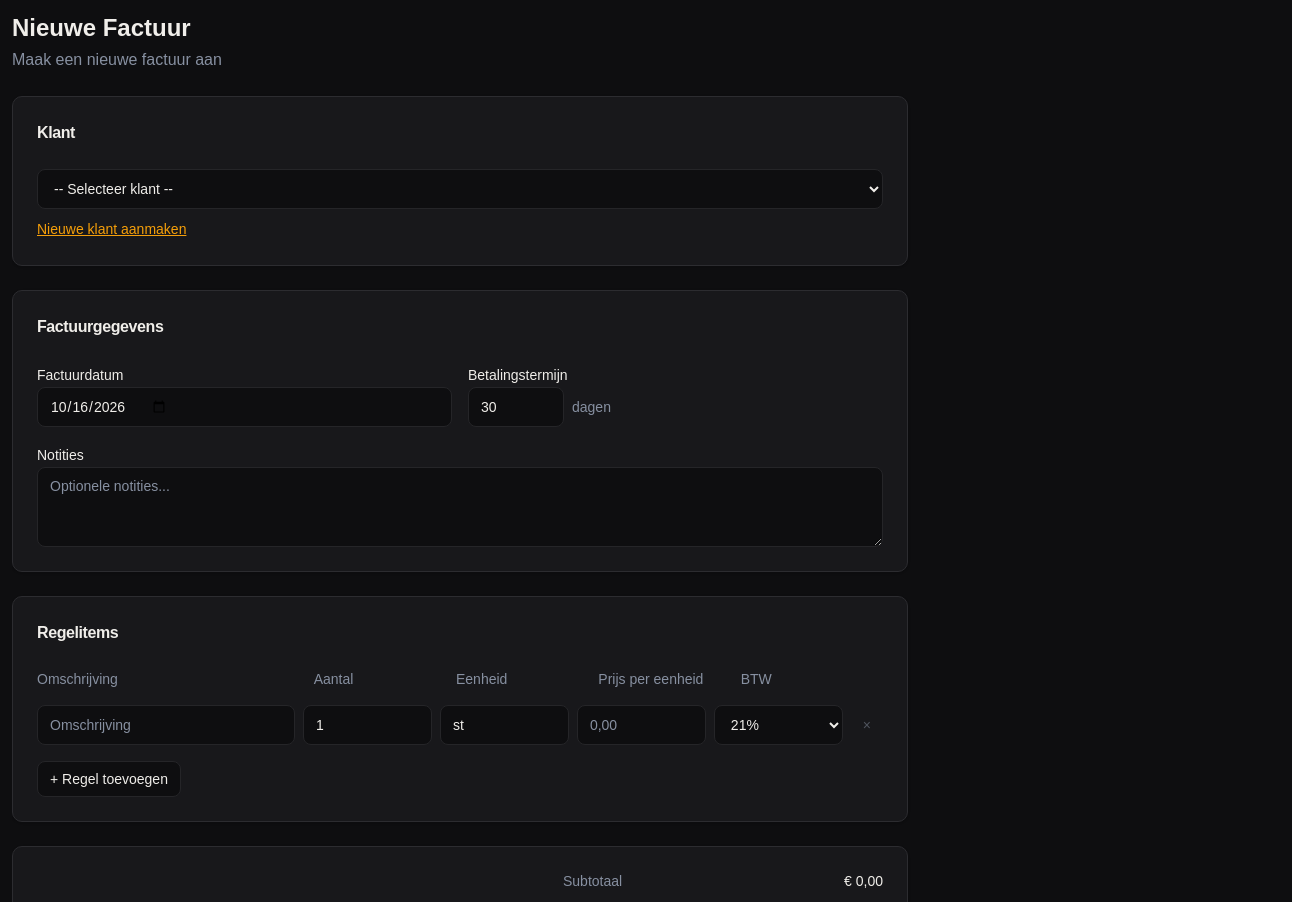
Test case: InvoiceCreatePage › removes a line item when the remove button is clicked (when >1 line)
// Add a second line first
Click the button "+ Regel toevoegen". click: (109, 779)
box: [37, 761, 181, 797]
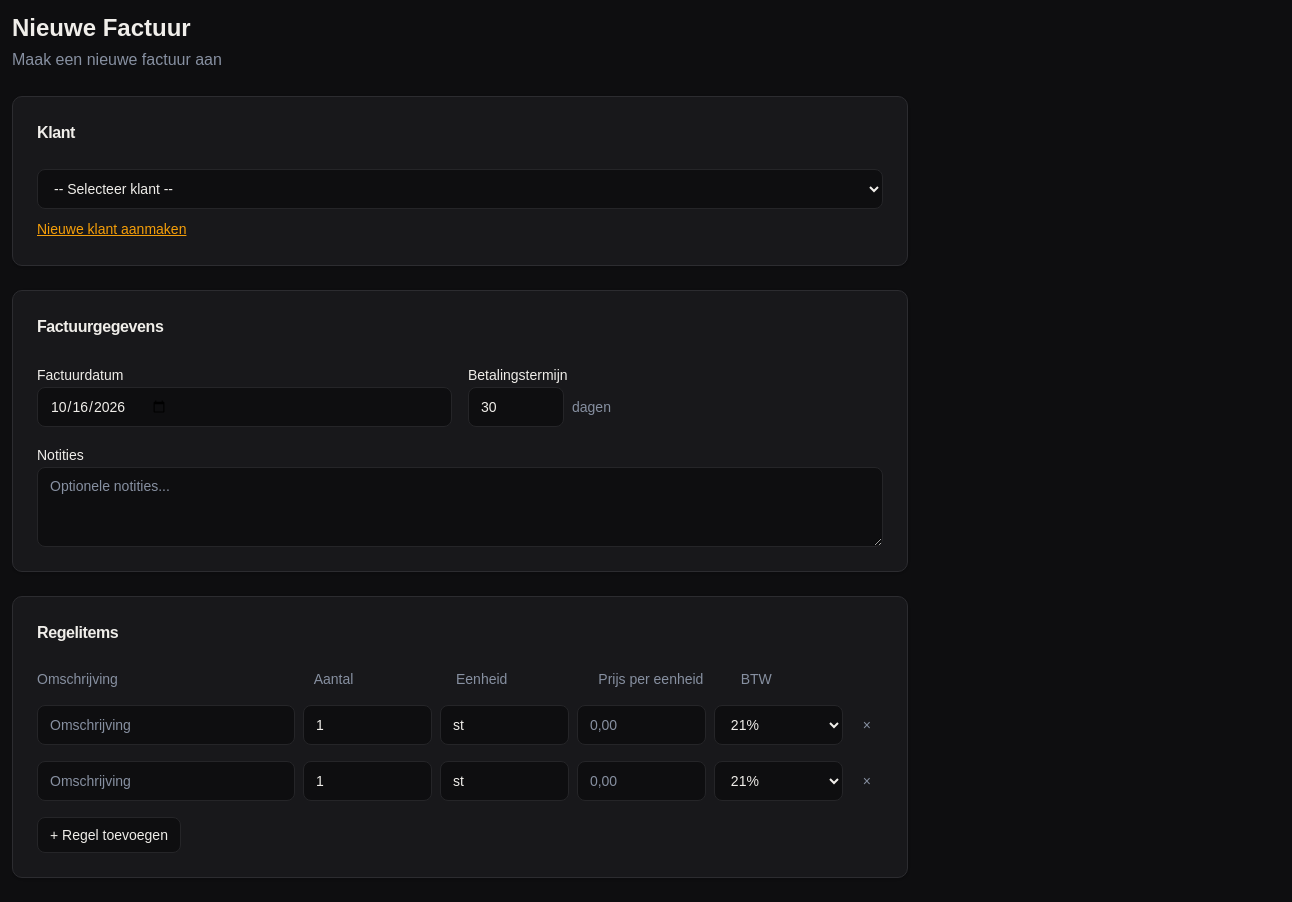
Expected: the number of fields with placeholder "Omschrijving" is 2, [37, 705, 295, 745]; [37, 761, 295, 801]
// Remove one
Click the button named "verwijder". click: (867, 725)
box: [851, 707, 883, 743]
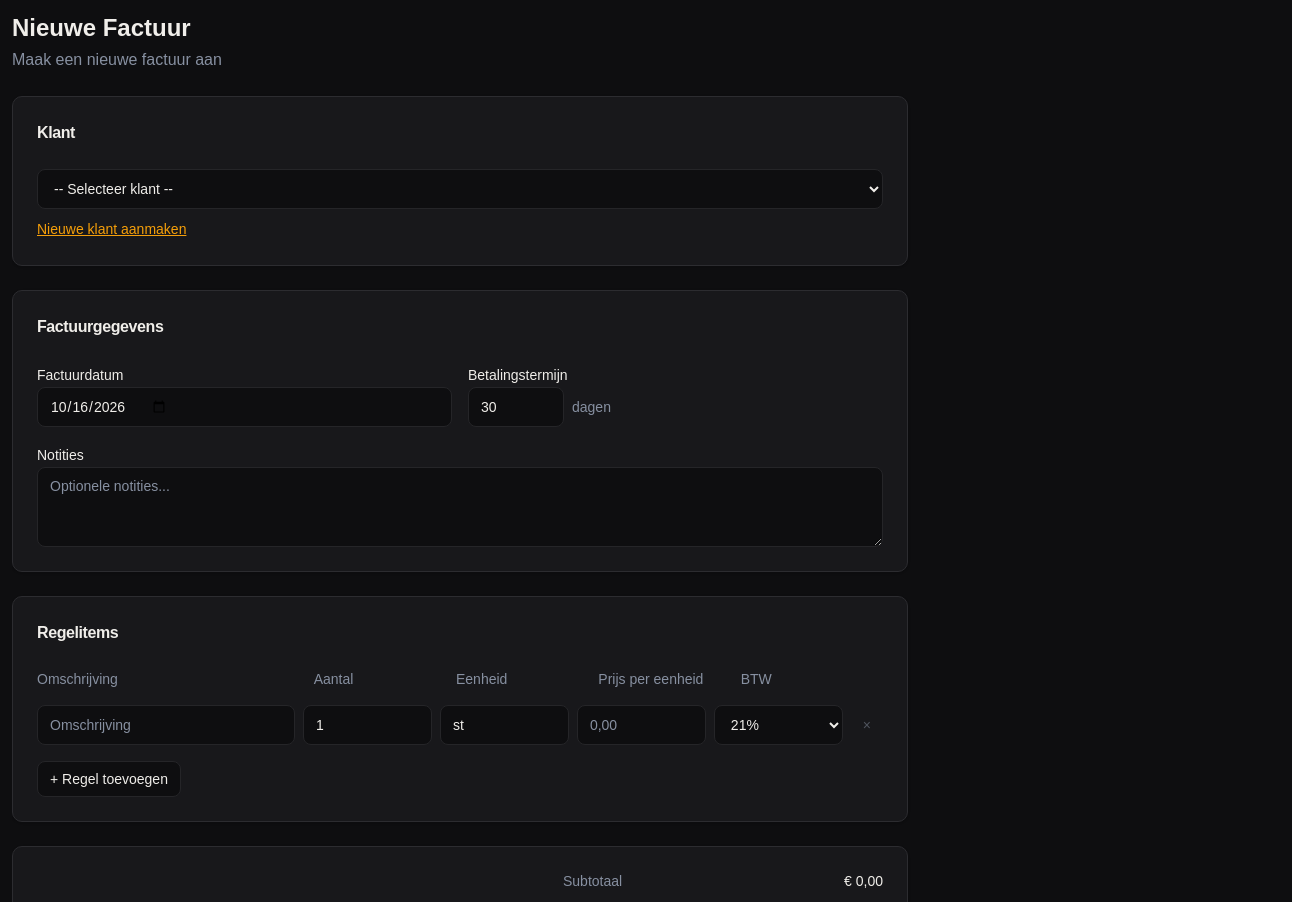
Expected: the number of fields with placeholder "Omschrijving" is 1, [37, 705, 295, 745]
